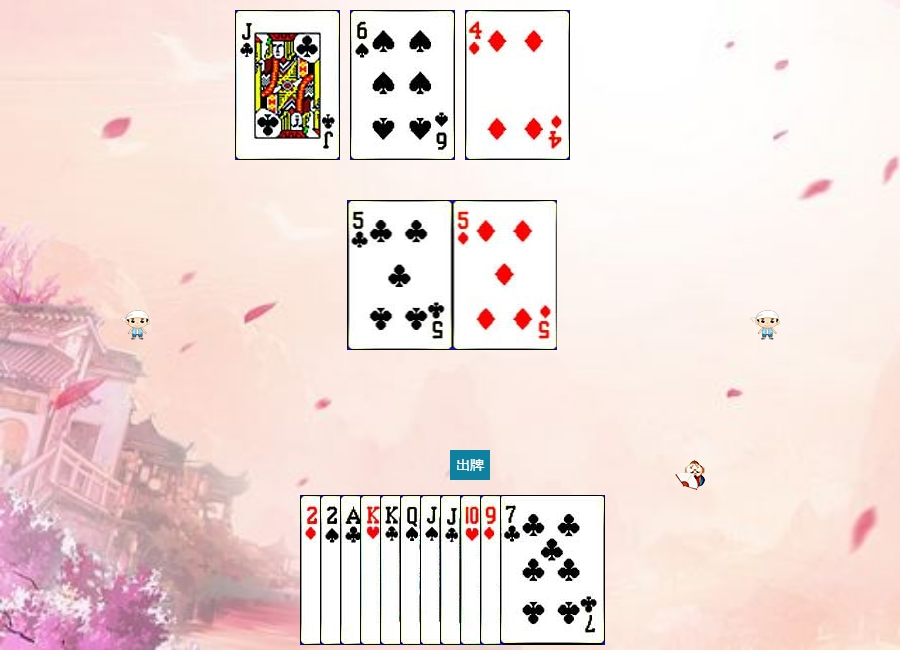10~3: (460, 495, 565, 645)
11~2: (235, 10, 340, 160), (440, 495, 545, 645)
11~4: (420, 495, 525, 645)
12~4: (400, 495, 505, 645)
13~2: (380, 495, 485, 645)
13~3: (360, 495, 465, 645)
14~2: (340, 495, 445, 645)
15~1: (300, 495, 405, 645)
15~4: (320, 495, 425, 645)
4~1: (465, 10, 570, 160)
5~1: (453, 200, 558, 350)
5~2: (348, 200, 453, 350)
6~4: (350, 10, 455, 160)
7~2: (500, 495, 605, 645)
9~1: (480, 495, 585, 645)
